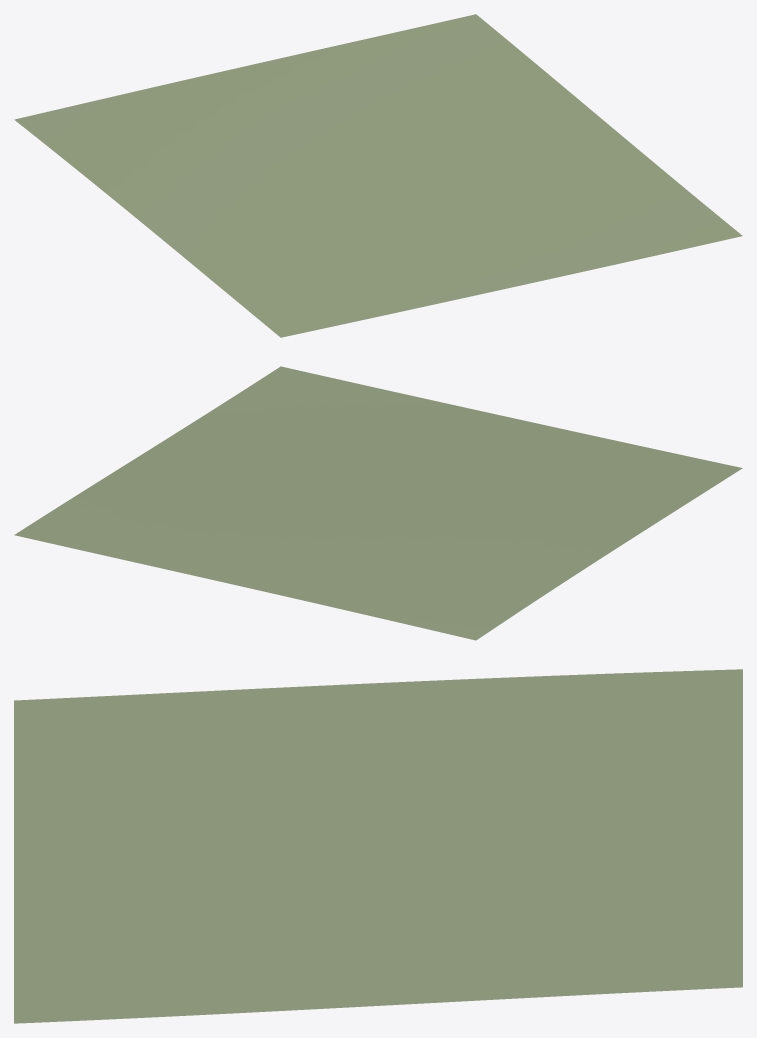
Rendered from desert-4-18.glb.
The picture shows the model from 3 angles, top to bottom: view 1: azimuth 30°, elevation 25°; view 2: azimuth 150°, elevation 25°; view 3: azimuth 270°, elevation 25°; orthographic projection. The views are drawn at different scales.
Visible parts, largest first — view 1: desert-4-18; view 2: desert-4-18; view 3: desert-4-18.
Boxes of the visible parts, <box> form: desert-4-18: <box>14,14,742,337</box>; desert-4-18: <box>14,366,742,640</box>; desert-4-18: <box>14,669,742,1023</box>.
Bounding box in the file's own units: 512 × 35.87 × 512.
